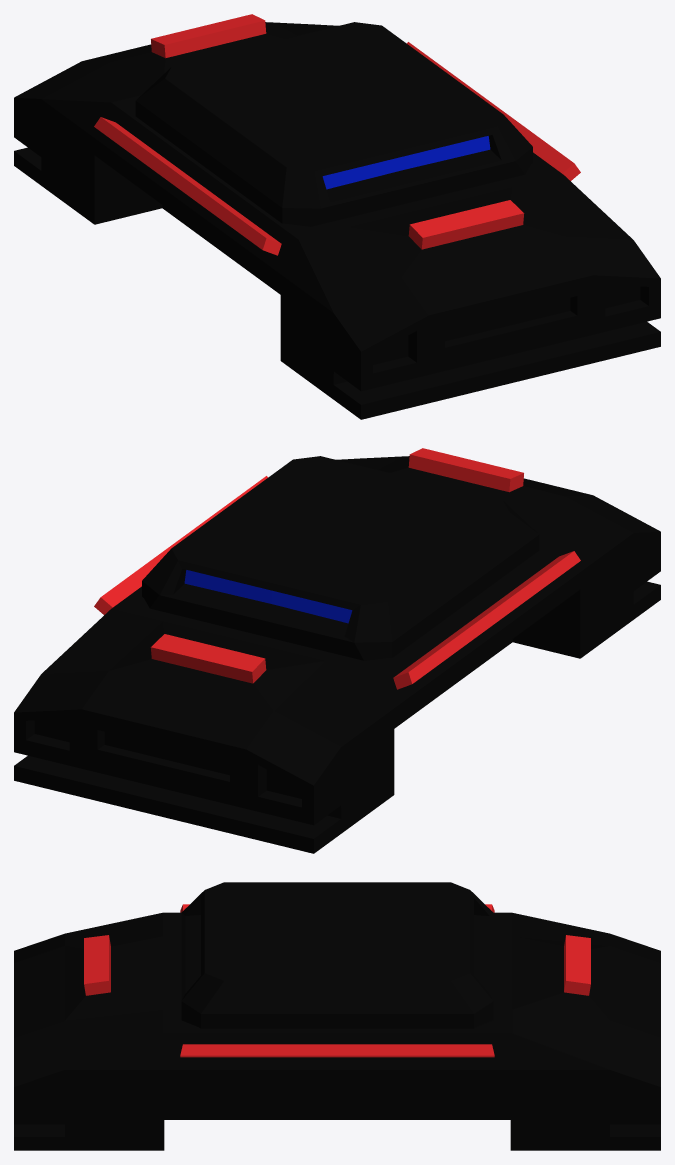
Rendered from car_2.fbx.
3 renders of one model, top to bottom at view 1: azimuth 30°, elevation 25°; view 2: azimuth 150°, elevation 25°; view 3: azimuth 270°, elevation 25°, orthographic. The views are drawn at different scales.
Parts seen in each view (by area): view 1: Base_2, Top_2; view 2: Base_2, Top_2; view 3: Base_2, Top_2.
Part boxes in pixels (x1,y1,x2,y2): Base_2: (14, 14, 660, 419); Top_2: (135, 22, 532, 226); Base_2: (14, 448, 660, 853); Top_2: (142, 456, 539, 660); Base_2: (14, 904, 660, 1150); Top_2: (181, 882, 493, 1028).
Size of the model in its own units: 258 by 124 by 487.
